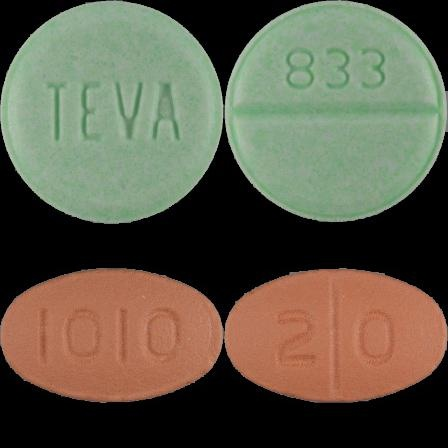50436-0915: (0, 0, 224, 224)
